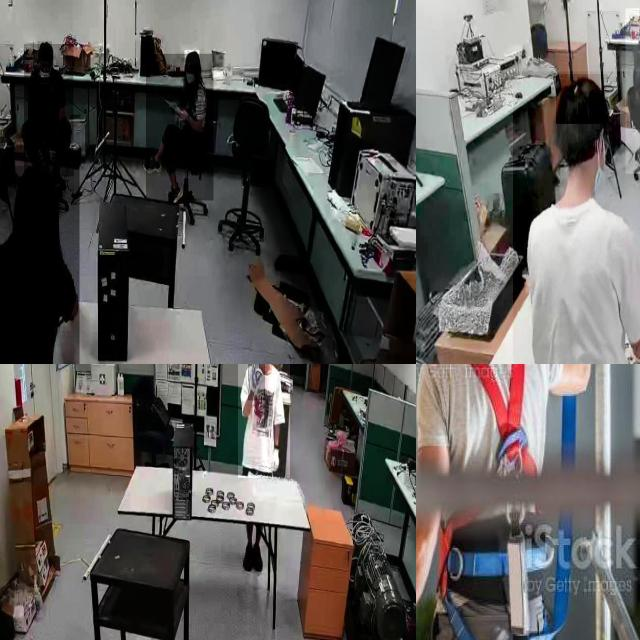Harness: (470, 364, 538, 477)
face_mask: (185, 66, 197, 87)
hand_glove: (248, 364, 265, 400)
hand_noglove: (176, 107, 188, 122)
head_nohelmet: (556, 74, 608, 125), (15, 166, 56, 194), (184, 50, 200, 66), (38, 42, 52, 58)
person: (512, 71, 640, 364), (0, 152, 80, 364), (146, 54, 214, 201), (24, 44, 74, 176), (237, 364, 290, 479), (625, 8, 640, 173)
shoes: (249, 539, 267, 576), (140, 154, 163, 178), (241, 539, 255, 576), (166, 180, 183, 208), (635, 127, 640, 157)
